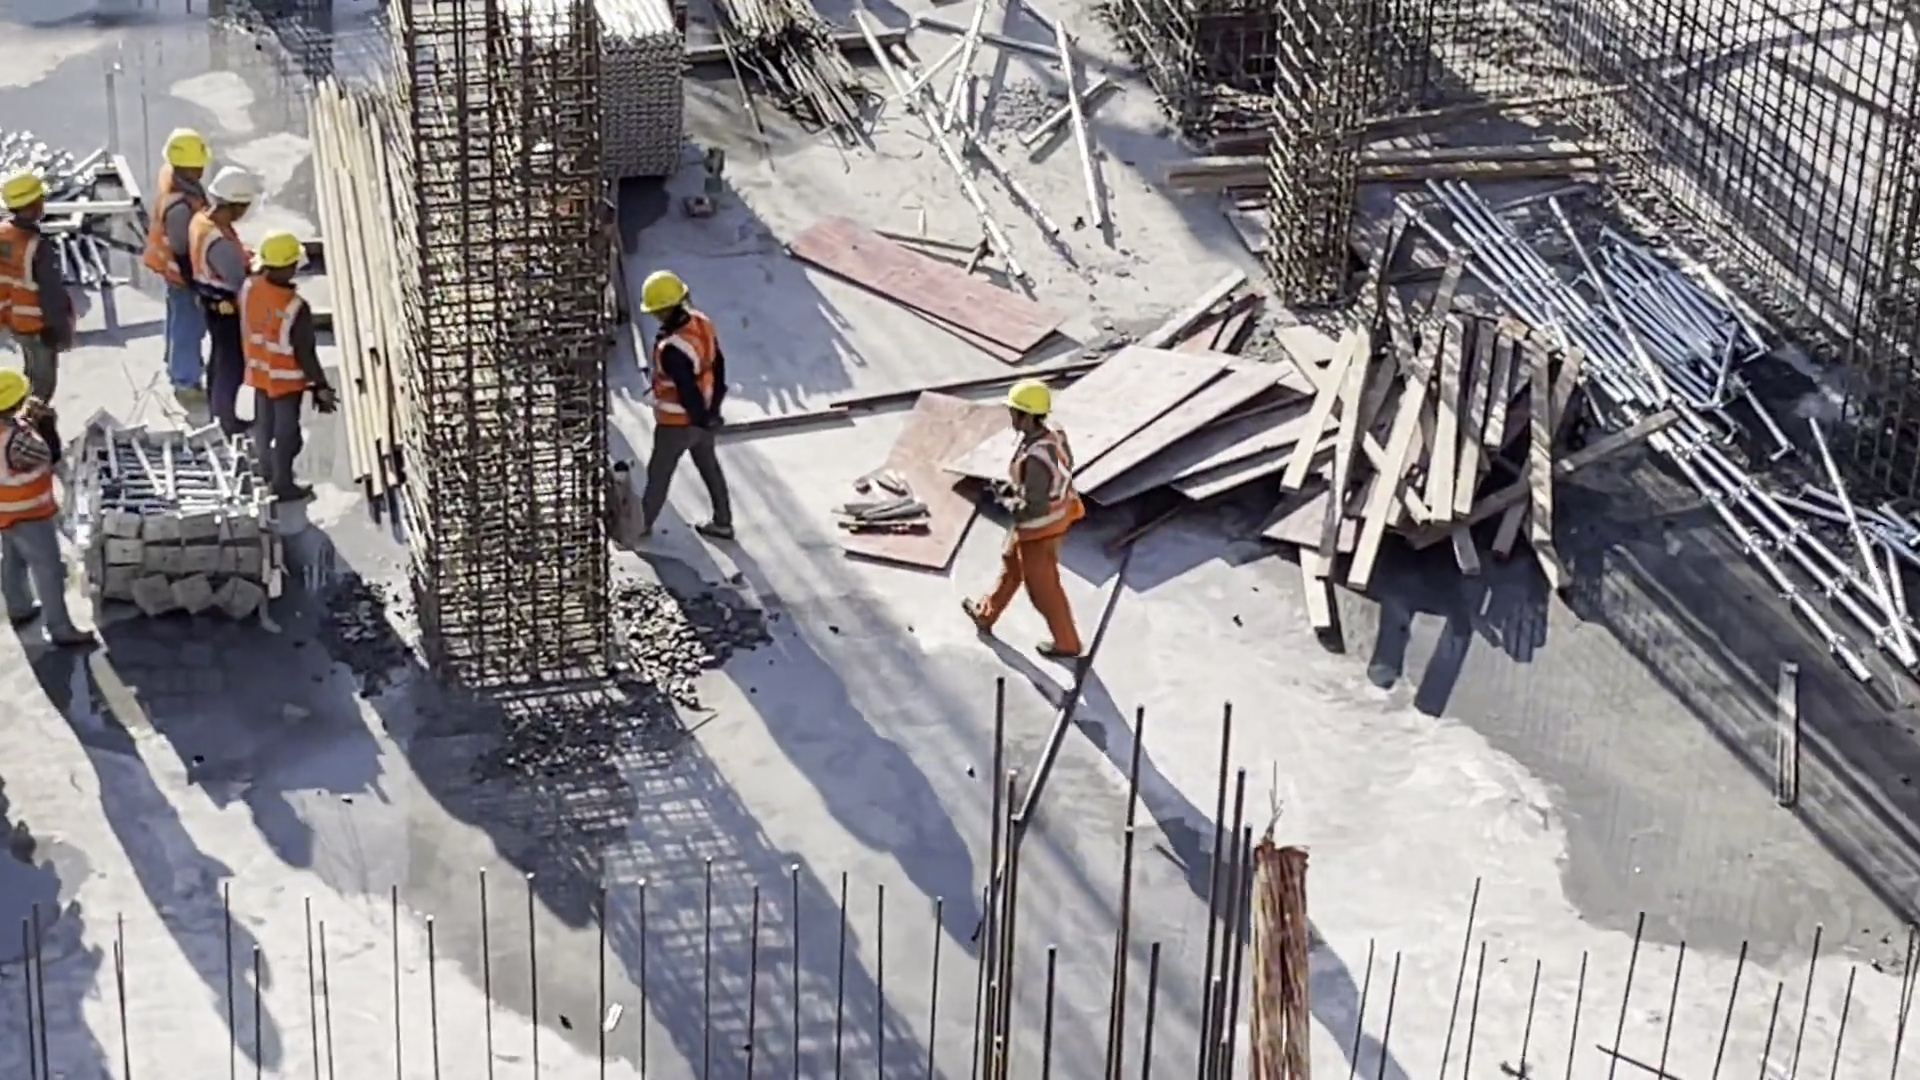helmet: (219, 159, 278, 241), (178, 127, 228, 209), (268, 239, 328, 296), (649, 284, 701, 341), (38, 174, 76, 217), (1006, 382, 1039, 414), (13, 371, 36, 404)
person: (994, 383, 1106, 661), (1, 386, 96, 628), (9, 186, 98, 430), (639, 268, 731, 476), (153, 131, 219, 330), (246, 226, 304, 413), (204, 155, 238, 328)
vest: (654, 312, 739, 441), (258, 279, 324, 422), (1, 219, 76, 339), (1, 414, 61, 509), (1019, 434, 1074, 532), (146, 182, 189, 277), (199, 217, 223, 307)
